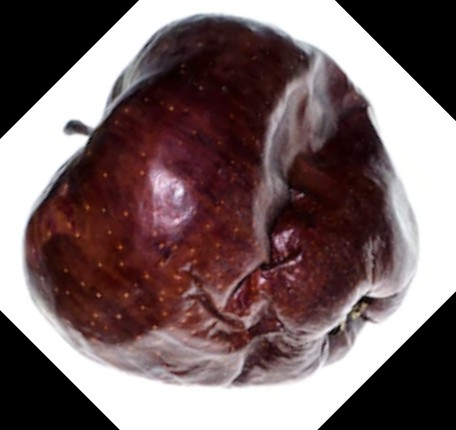rotten_apple: (19, 12, 420, 389)
